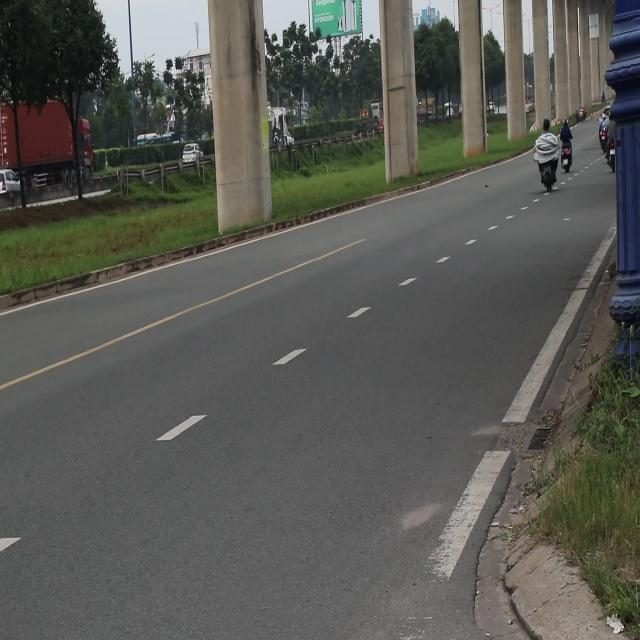car: (0, 166, 28, 210), (181, 144, 206, 172)
motorbike: (538, 162, 562, 205), (608, 139, 621, 190), (559, 142, 572, 172), (598, 132, 607, 155)
truck: (0, 98, 104, 207)
